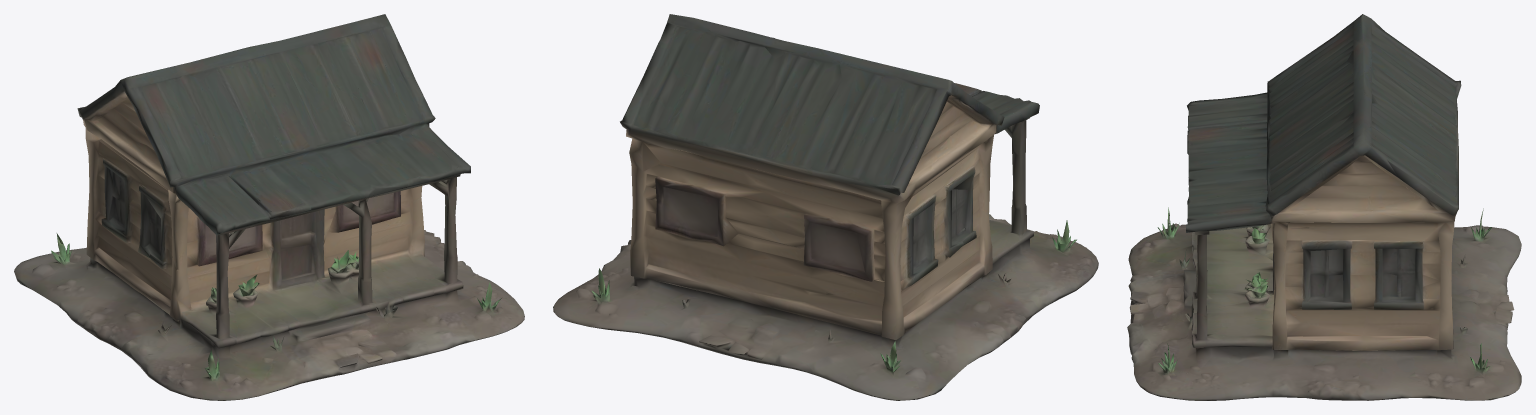
File: conservation_office_main.glb
The picture shows the model from 3 angles, left to right: view 1: azimuth 30°, elevation 25°; view 2: azimuth 150°, elevation 25°; view 3: azimuth 270°, elevation 25°; orthographic projection. The views are drawn at different scales.
Parts seen in each view (by area): view 1: tripo_node_eaa5566f-4f25-498f-8160-79d0c44c5869; view 2: tripo_node_eaa5566f-4f25-498f-8160-79d0c44c5869; view 3: tripo_node_eaa5566f-4f25-498f-8160-79d0c44c5869.
Part boxes in pixels (x1,y1,x2,y2): tripo_node_eaa5566f-4f25-498f-8160-79d0c44c5869: [14, 14, 524, 400]; tripo_node_eaa5566f-4f25-498f-8160-79d0c44c5869: [553, 14, 1098, 400]; tripo_node_eaa5566f-4f25-498f-8160-79d0c44c5869: [1127, 14, 1521, 400].
Bounding box in the file's own units: 1 × 0.6385 × 0.9541.
1 material, 1 textured.
